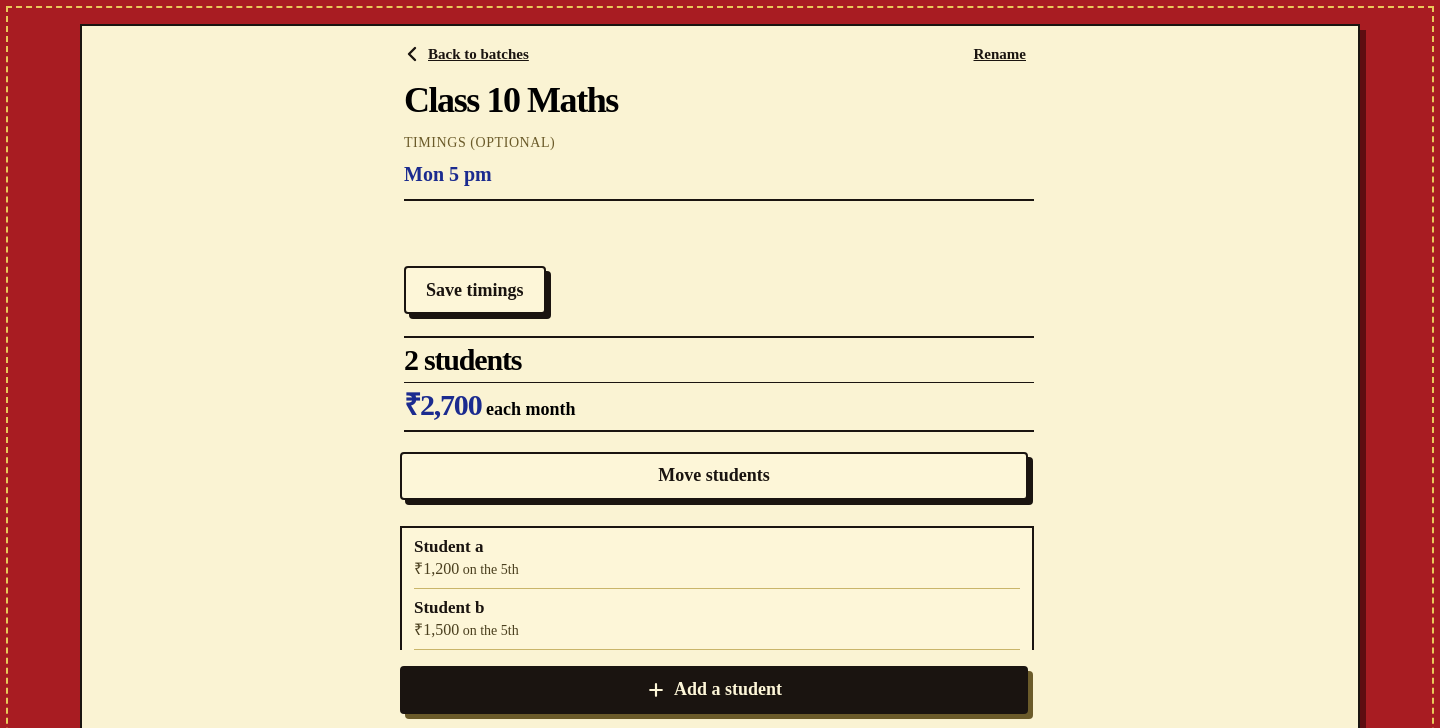
Test case: rename and timings (42, 46) › keeps what was typed and says nothing was saved when the save fails; offline has its own words
Type "!" into the text box labelled "Timings (optional)" at (719, 175), box [404,153,1034,197]
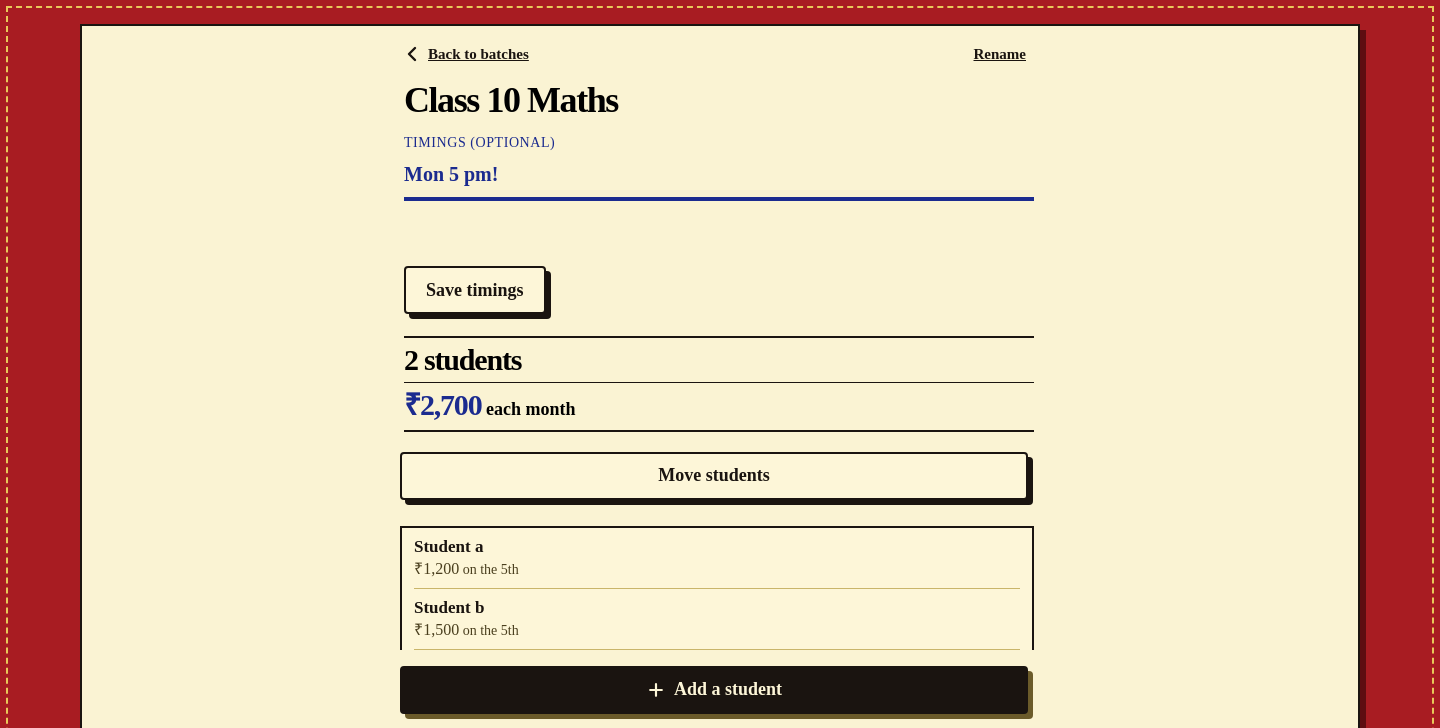
Click the button "Save timings" at (475, 290), box [404,266,546,314]
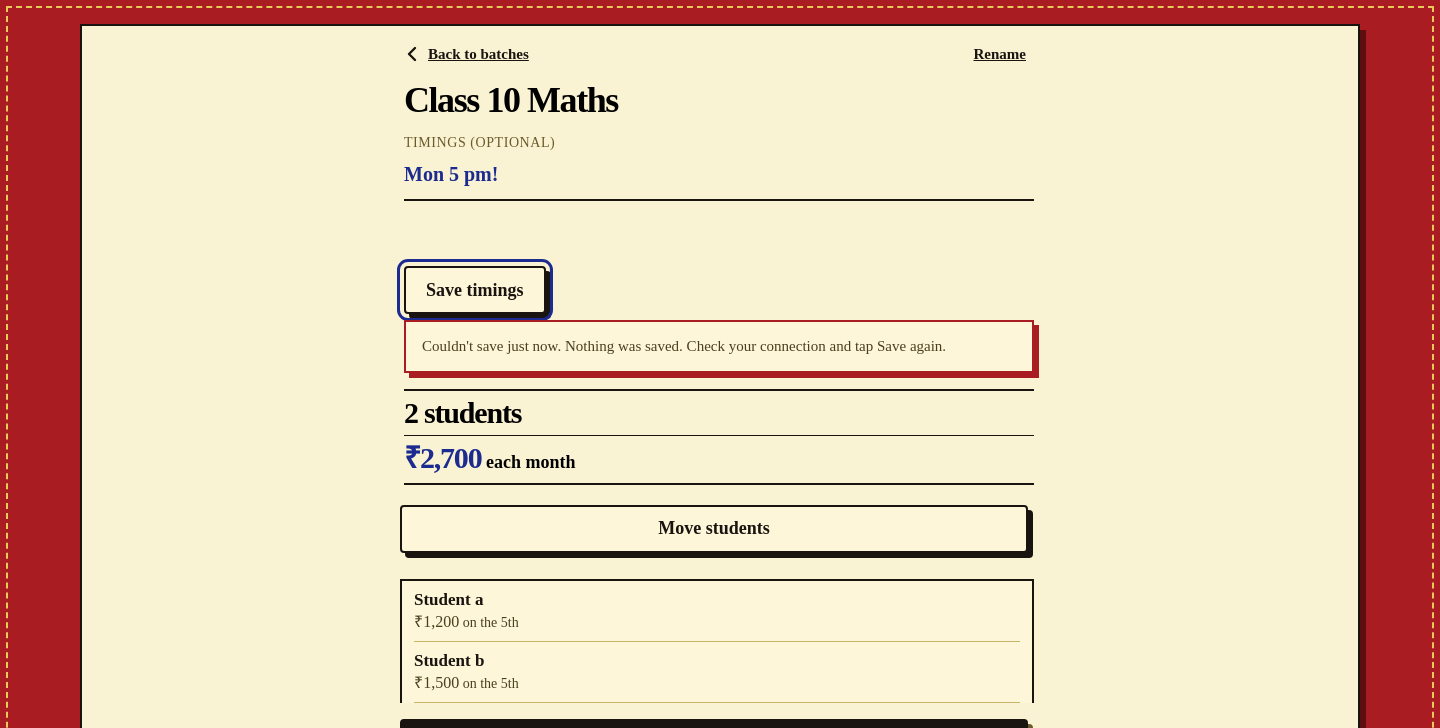
Expected: the text box labelled "Timings (optional)" holds "Mon 5 pm!", [404,153,1034,197]
Expected: the text "Couldn't save just now. Nothing was saved. Check your connection and tap Save again." is shown, [422,338,946,354]
Click the button "Save timings" at (475, 290), box [404,266,546,314]
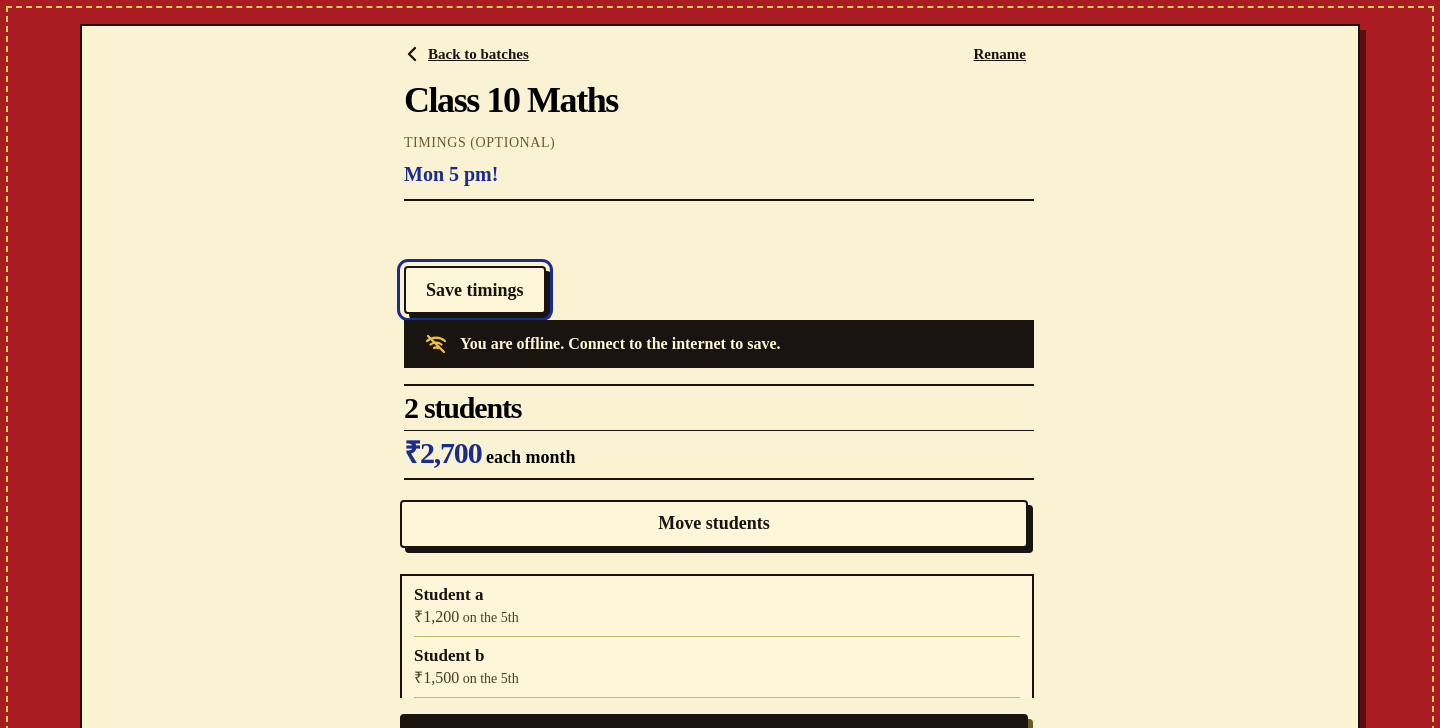
Expected: the text "You are offline. Connect to the internet to save." is shown, [460,333,780,356]
